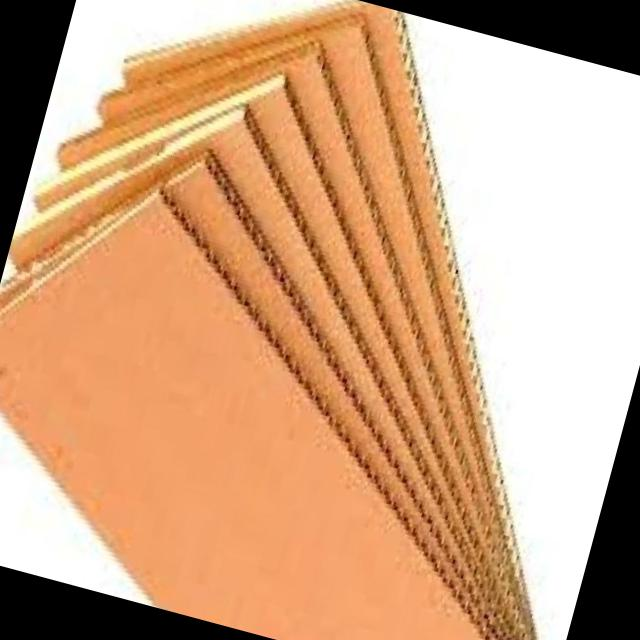cardboard paper: (0, 0, 532, 640)
